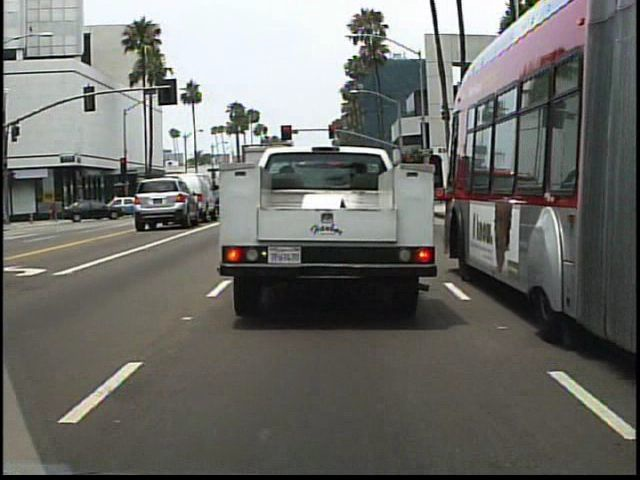person: (51, 194, 59, 225)
